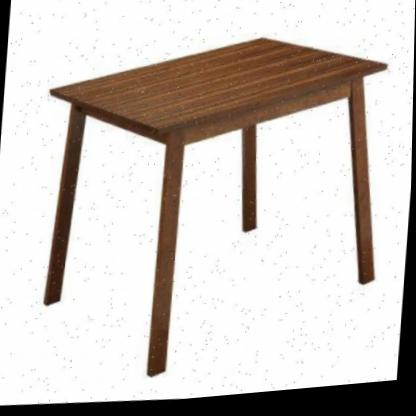Table: (5, 5, 415, 415)
